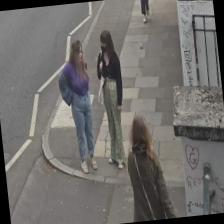person: (122, 112, 178, 222), (55, 38, 98, 175), (92, 28, 130, 169)
